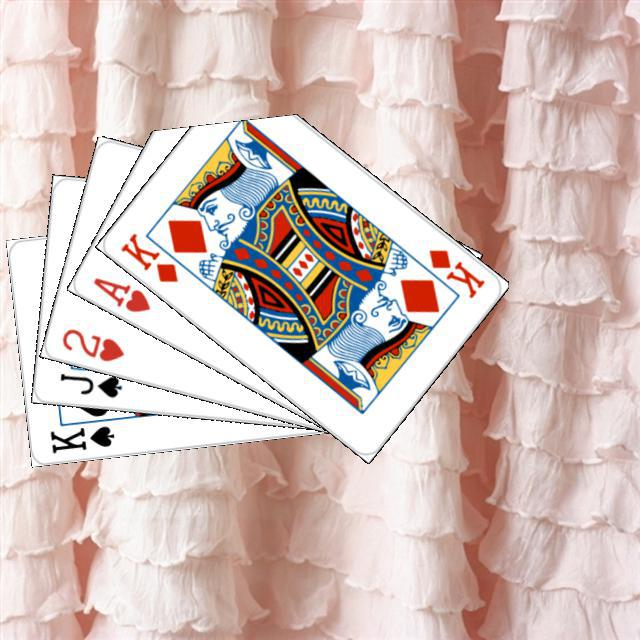2h: (57, 323, 126, 363)
Ah: (88, 272, 153, 315)
Js: (55, 369, 123, 400)
Kd: (115, 228, 180, 285), (424, 244, 487, 300)
Ks: (45, 421, 116, 455)
